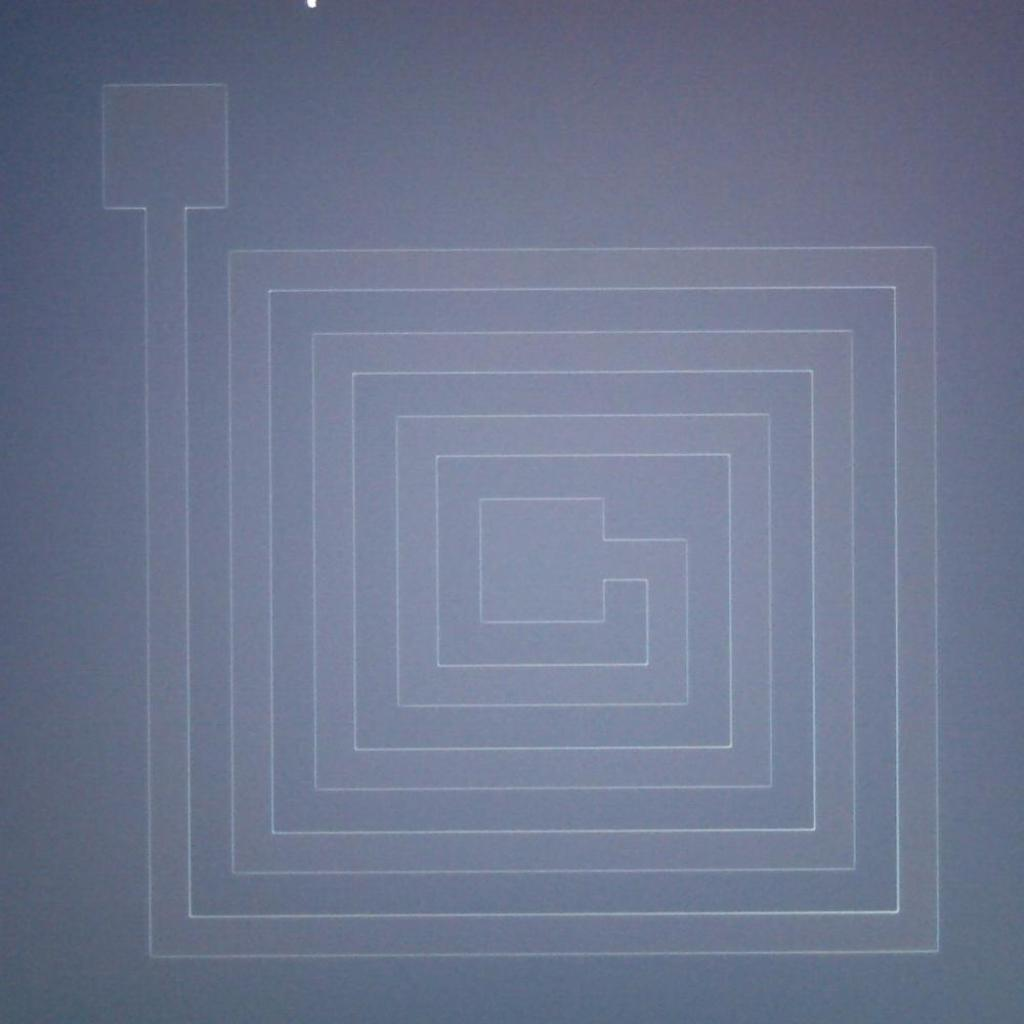dot: (308, 0, 316, 8)
